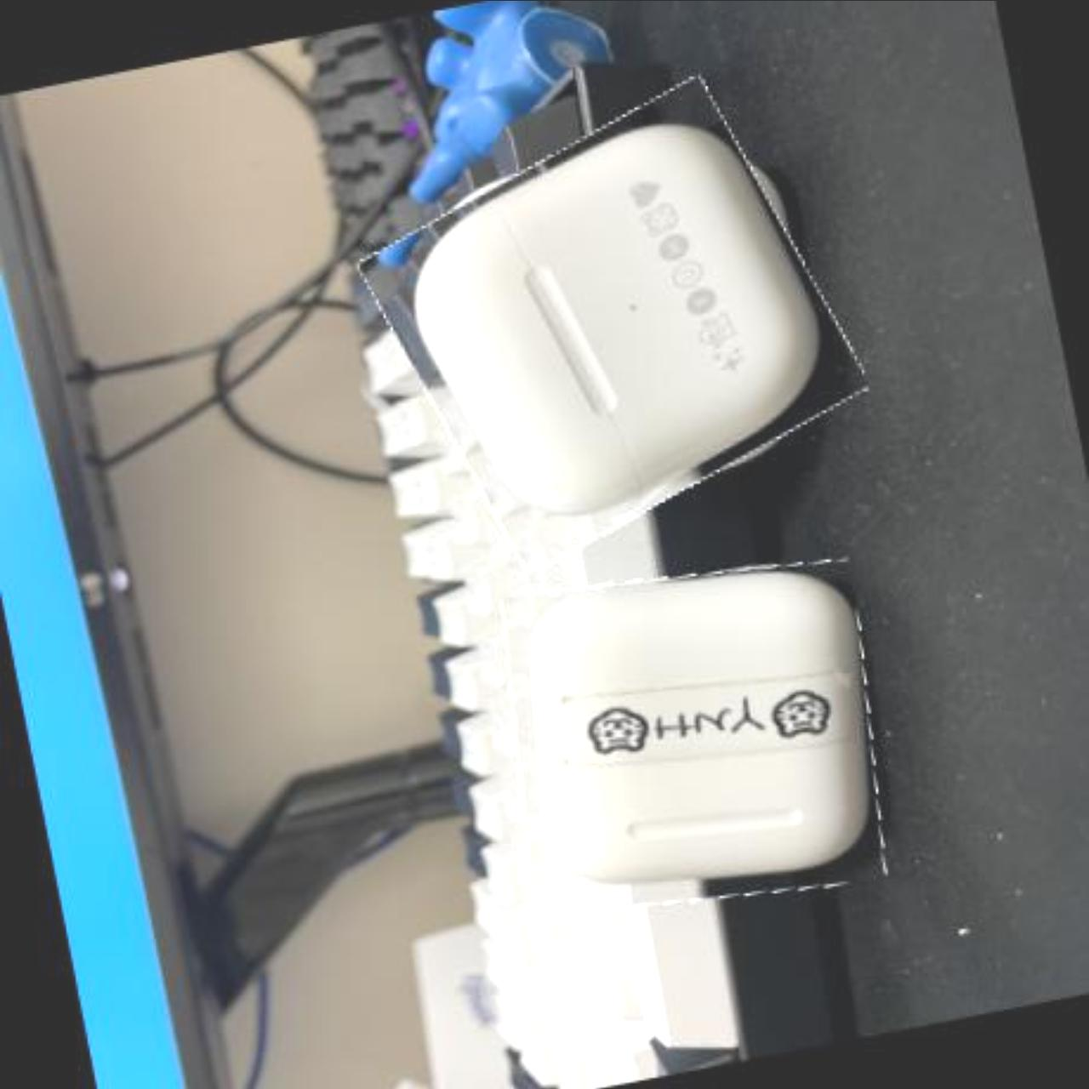AirPods: (360, 86, 864, 568), (480, 538, 904, 938)
